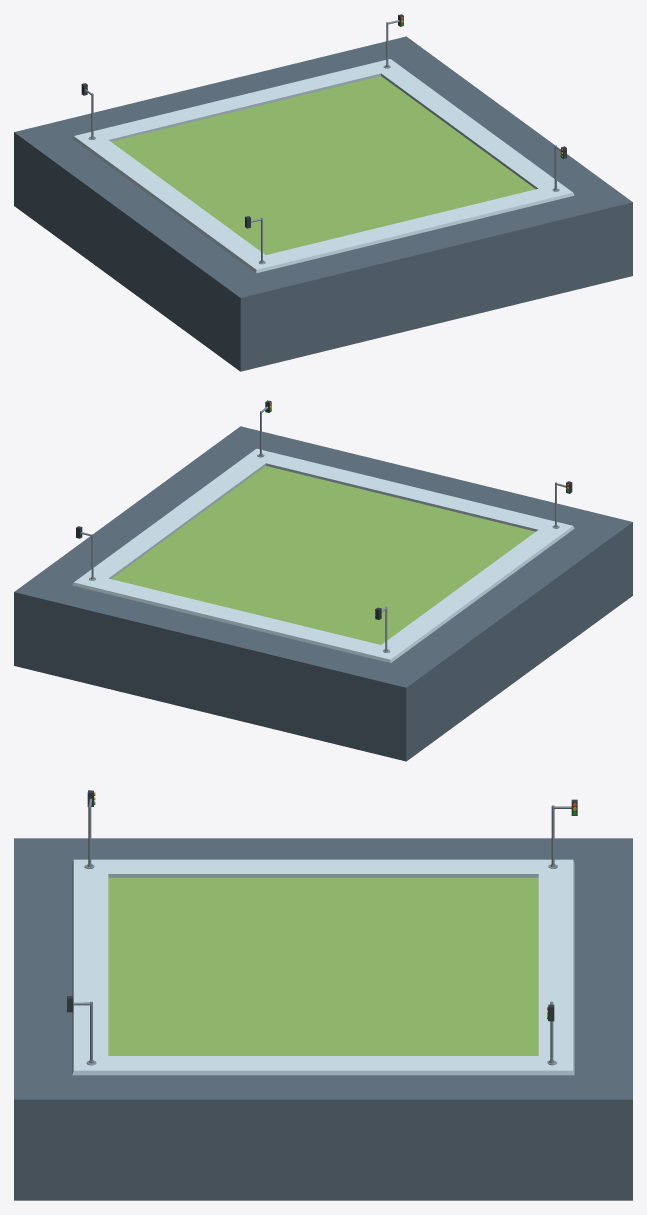
File: Land.glb
3 renders of one model, top to bottom at view 1: azimuth 30°, elevation 25°; view 2: azimuth 150°, elevation 25°; view 3: azimuth 270°, elevation 25°, orthographic. The views are drawn at different scales.
Parts seen in each view (by area): view 1: Cube.001; view 2: Cube.001; view 3: Cube.001.
Boxes of the visible parts, bbox=[...] form: Cube.001: bbox=[14, 36, 632, 371]; Cube.001: bbox=[14, 426, 632, 761]; Cube.001: bbox=[14, 838, 632, 1200].
Size of the model in its own units: 17.05 by 5.2 by 17.05.
